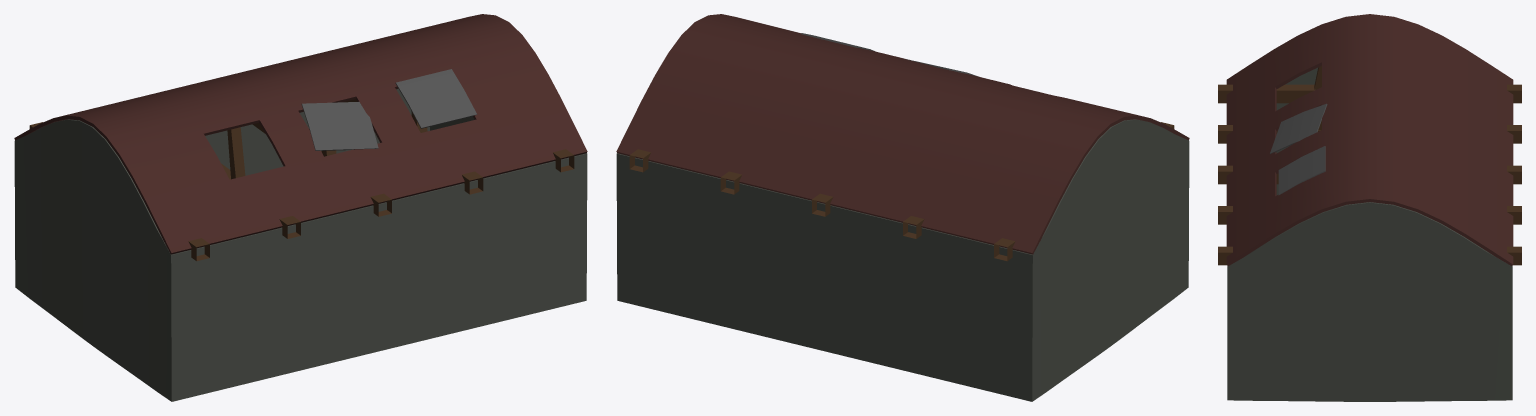
File: hangar.fbx
The picture shows the model from 3 angles, left to right: view 1: azimuth 30°, elevation 25°; view 2: azimuth 150°, elevation 25°; view 3: azimuth 270°, elevation 25°; orthographic projection. The views are drawn at different scales.
Visible parts, largest first — view 1: Cube, Cube.003, Cube.002, Cube.001; view 2: Cube, Cube.003, Cube.001; view 3: Cube.003, Cube, Cube.001, Cube.002.
Part boxes in pixels (x1,y1,x2,y2): Cube: (14, 88, 587, 401); Cube.003: (14, 14, 587, 254); Cube.002: (301, 69, 477, 150); Cube.001: (29, 99, 574, 261); Cube: (616, 119, 1189, 401); Cube.003: (616, 14, 1189, 254); Cube.001: (629, 122, 1174, 261); Cube.003: (1226, 14, 1513, 265); Cube: (1227, 67, 1512, 401); Cube.001: (1218, 66, 1521, 265); Cube.002: (1270, 103, 1327, 195).
Size of the model in its own units: 314 by 160 by 218.
